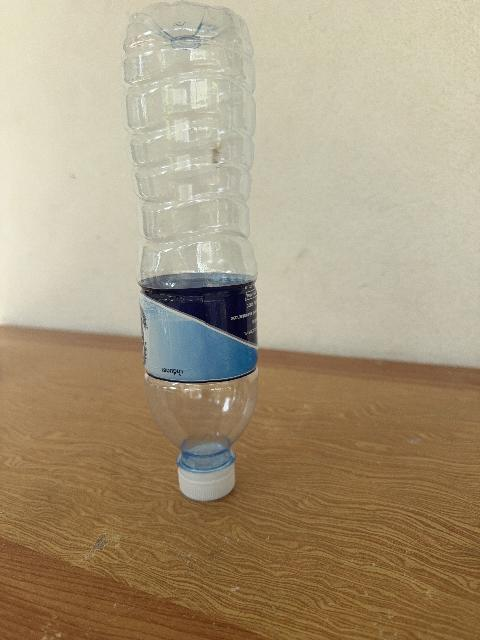bottle: (122, 2, 257, 500)
